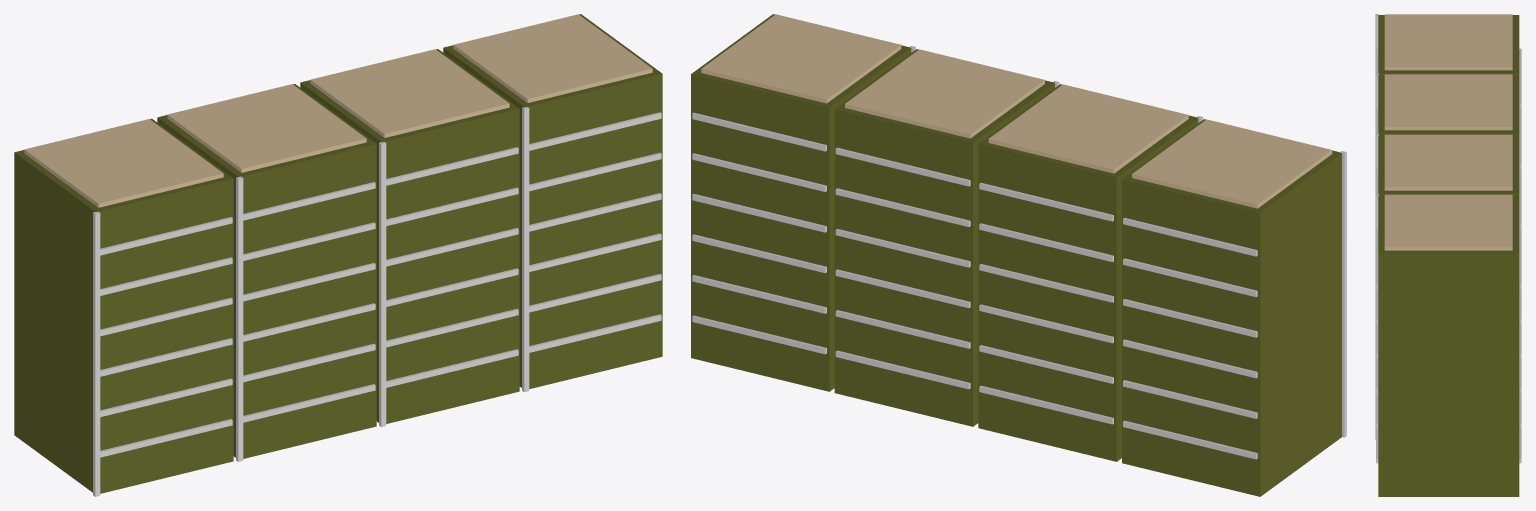
File: SM_HescoCorto4_v1_Geotextil_e0_Sano_LOD0.fbx
3 renders of one model, left to right at view 1: azimuth 30°, elevation 25°; view 2: azimuth 150°, elevation 25°; view 3: azimuth 270°, elevation 25°, orthographic. The views are drawn at different scales.
Visible parts, largest first — view 1: SM_hesco_piezas_v104_LOD0; view 2: SM_hesco_piezas_v104_LOD0; view 3: SM_hesco_piezas_v104_LOD0.
Part boxes in pixels (left/top/right/bottom): SM_hesco_piezas_v104_LOD0: left=14, top=14, right=662, bottom=496; SM_hesco_piezas_v104_LOD0: left=691, top=14, right=1346, bottom=496; SM_hesco_piezas_v104_LOD0: left=1375, top=14, right=1521, bottom=496.
Bounding box in the file's own units: 4.42 × 2.13 × 1.14.
